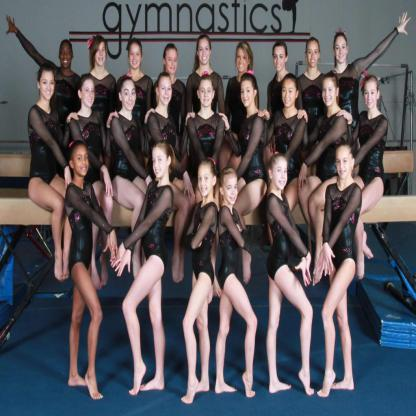face: (336, 150, 352, 179), (273, 162, 288, 190), (200, 170, 214, 197), (42, 74, 55, 102), (123, 85, 137, 111), (224, 179, 238, 205), (153, 154, 168, 178), (159, 80, 173, 105), (75, 151, 89, 176), (323, 84, 337, 107), (82, 84, 95, 108), (365, 85, 378, 109), (200, 83, 213, 106), (242, 84, 255, 107), (283, 84, 296, 107), (61, 45, 73, 68), (166, 51, 178, 74), (237, 49, 249, 72), (336, 40, 348, 63), (199, 43, 210, 66), (130, 48, 142, 69), (275, 50, 286, 71), (96, 43, 106, 65), (308, 48, 319, 68)
